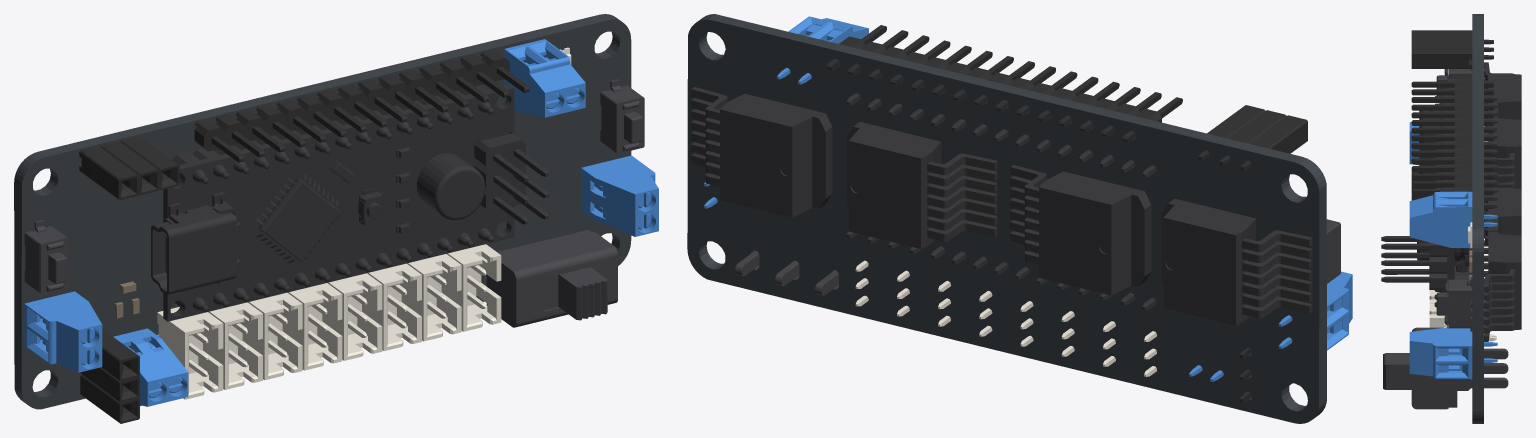
File: mini21.glb
The picture shows the model from 3 angles, left to right: view 1: azimuth 30°, elevation 25°; view 2: azimuth 150°, elevation 25°; view 3: azimuth 270°, elevation 25°; orthographic projection. The views are drawn at different scales.
Visible parts, largest first — view 1: ic__U2_COMM_TH_ARDUINO_NANO_ARDUINO_NANO_0FP6, pcb__Part__Feature, jst__CN1_CONN_TH_ZX_PH2_0_3PZZ_Y_CONN_TH_ZX_PH2_0_3PZZ_Y_0FP (×8), terminal__U8_CONN_TH_P2_54_KF128_2_54_2P_CONN_TH_P2_54_KF128 (×4), header__H1_HDR_TH_15P_P2_54_V_M_HDR_TH_15P_P2_54_M_LI_1X15P_, switch__U1_SW_TH_3P_P4_80_HX_SS12D10G4_SW_TH_SHOU_HAN_SS12D1, switch__KEY1_SW_SMD_L6_0_W3_5_LS8_0_SW_SMD_L6_0_W3_5_H5_0_P7 (×2), header__P2_HDR_TH_3P_P2_54_V_F_HDR2_54_F_LI_1X3P_0FP001, header__P2_HDR_TH_3P_P2_54_V_F_HDR2_54_F_LI_1X3P_0FP6, ic__C6_CAP_SMD_BD6_3_L6_6_W6_6_FD_CAP_SMD_BD6_3_L6_6_W6_6_FD; view 2: pcb__Part__Feature, ic__U9_TO_263_7_L10_2_W10_4_P1_27_LS14_4_TL_TO_263_7_8PIN_L1 (×4), header__H1_HDR_TH_15P_P2_54_V_M_HDR_TH_15P_P2_54_M_LI_1X15P_, terminal__U8_CONN_TH_P2_54_KF128_2_54_2P_CONN_TH_P2_54_KF128 (×2), header__P2_HDR_TH_3P_P2_54_V_F_HDR2_54_F_LI_1X3P_0FP001, ic__U2_COMM_TH_ARDUINO_NANO_ARDUINO_NANO_0FP6, switch__U1_SW_TH_3P_P4_80_HX_SS12D10G4_SW_TH_SHOU_HAN_SS12D1, switch__KEY1_SW_SMD_L6_0_W3_5_LS8_0_SW_SMD_L6_0_W3_5_H5_0_P7; view 3: ic__U9_TO_263_7_L10_2_W10_4_P1_27_LS14_4_TL_TO_263_7_8PIN_L1 (×4), header__H1_HDR_TH_15P_P2_54_V_M_HDR_TH_15P_P2_54_M_LI_1X15P_, terminal__U8_CONN_TH_P2_54_KF128_2_54_2P_CONN_TH_P2_54_KF128 (×3), ic__U2_COMM_TH_ARDUINO_NANO_ARDUINO_NANO_0FP6, pcb__Part__Feature, switch__U1_SW_TH_3P_P4_80_HX_SS12D10G4_SW_TH_SHOU_HAN_SS12D1, header__P2_HDR_TH_3P_P2_54_V_F_HDR2_54_F_LI_1X3P_0FP001, switch__KEY1_SW_SMD_L6_0_W3_5_LS8_0_SW_SMD_L6_0_W3_5_H5_0_P7 (×2), ic__C6_CAP_SMD_BD6_3_L6_6_W6_6_FD_CAP_SMD_BD6_3_L6_6_W6_6_FD, jst__CN1_CONN_TH_ZX_PH2_0_3PZZ_Y_CONN_TH_ZX_PH2_0_3PZZ_Y_0FP, header__P2_HDR_TH_3P_P2_54_V_F_HDR2_54_F_LI_1X3P_0FP6.
Boxes of the visible parts, x1,y1,x2,y2 form: ic__U2_COMM_TH_ARDUINO_NANO_ARDUINO_NANO_0FP6: (151, 84, 548, 321); pcb__Part__Feature: (14, 14, 631, 409); jst__CN1_CONN_TH_ZX_PH2_0_3PZZ_Y_CONN_TH_ZX_PH2_0_3PZZ_Y_0FP (×8): (157, 244, 501, 399); terminal__U8_CONN_TH_P2_54_KF128_2_54_2P_CONN_TH_P2_54_KF128 (×4): (24, 39, 658, 406); header__H1_HDR_TH_15P_P2_54_V_M_HDR_TH_15P_P2_54_M_LI_1X15P_: (194, 49, 529, 162); switch__U1_SW_TH_3P_P4_80_HX_SS12D10G4_SW_TH_SHOU_HAN_SS12D1: (485, 229, 617, 327); switch__KEY1_SW_SMD_L6_0_W3_5_LS8_0_SW_SMD_L6_0_W3_5_H5_0_P7 (×2): (24, 79, 644, 294); header__P2_HDR_TH_3P_P2_54_V_F_HDR2_54_F_LI_1X3P_0FP001: (79, 136, 179, 199); header__P2_HDR_TH_3P_P2_54_V_F_HDR2_54_F_LI_1X3P_0FP6: (80, 329, 139, 423); ic__C6_CAP_SMD_BD6_3_L6_6_W6_6_FD_CAP_SMD_BD6_3_L6_6_W6_6_FD: (416, 153, 485, 220); pcb__Part__Feature: (687, 14, 1326, 423); ic__U9_TO_263_7_L10_2_W10_4_P1_27_LS14_4_TL_TO_263_7_8PIN_L1 (×4): (691, 87, 1312, 325); header__H1_HDR_TH_15P_P2_54_V_M_HDR_TH_15P_P2_54_M_LI_1X15P_: (826, 25, 1182, 142); terminal__U8_CONN_TH_P2_54_KF128_2_54_2P_CONN_TH_P2_54_KF128 (×2): (777, 16, 1352, 350); header__P2_HDR_TH_3P_P2_54_V_F_HDR2_54_F_LI_1X3P_0FP001: (1198, 105, 1307, 170); ic__U2_COMM_TH_ARDUINO_NANO_ARDUINO_NANO_0FP6: (846, 93, 1156, 310); switch__U1_SW_TH_3P_P4_80_HX_SS12D10G4_SW_TH_SHOU_HAN_SS12D1: (735, 250, 838, 295); switch__KEY1_SW_SMD_L6_0_W3_5_LS8_0_SW_SMD_L6_0_W3_5_H5_0_P7: (1326, 219, 1340, 283); ic__U9_TO_263_7_L10_2_W10_4_P1_27_LS14_4_TL_TO_263_7_8PIN_L1 (×4): (1484, 62, 1521, 341); header__H1_HDR_TH_15P_P2_54_V_M_HDR_TH_15P_P2_54_M_LI_1X15P_: (1411, 74, 1493, 195); terminal__U8_CONN_TH_P2_54_KF128_2_54_2P_CONN_TH_P2_54_KF128 (×3): (1409, 122, 1497, 378); ic__U2_COMM_TH_ARDUINO_NANO_ARDUINO_NANO_0FP6: (1381, 78, 1497, 324); pcb__Part__Feature: (1472, 14, 1483, 423); switch__U1_SW_TH_3P_P4_80_HX_SS12D10G4_SW_TH_SHOU_HAN_SS12D1: (1383, 327, 1508, 409); header__P2_HDR_TH_3P_P2_54_V_F_HDR2_54_F_LI_1X3P_0FP001: (1411, 30, 1493, 68); switch__KEY1_SW_SMD_L6_0_W3_5_LS8_0_SW_SMD_L6_0_W3_5_H5_0_P7 (×2): (1436, 69, 1472, 331); ic__C6_CAP_SMD_BD6_3_L6_6_W6_6_FD_CAP_SMD_BD6_3_L6_6_W6_6_FD: (1417, 242, 1472, 266); jst__CN1_CONN_TH_ZX_PH2_0_3PZZ_Y_CONN_TH_ZX_PH2_0_3PZZ_Y_0FP: (1429, 303, 1496, 341); header__P2_HDR_TH_3P_P2_54_V_F_HDR2_54_F_LI_1X3P_0FP6: (1411, 171, 1438, 200).
Size of the model in its own units: 76.03 by 29.98 by 19.63.
